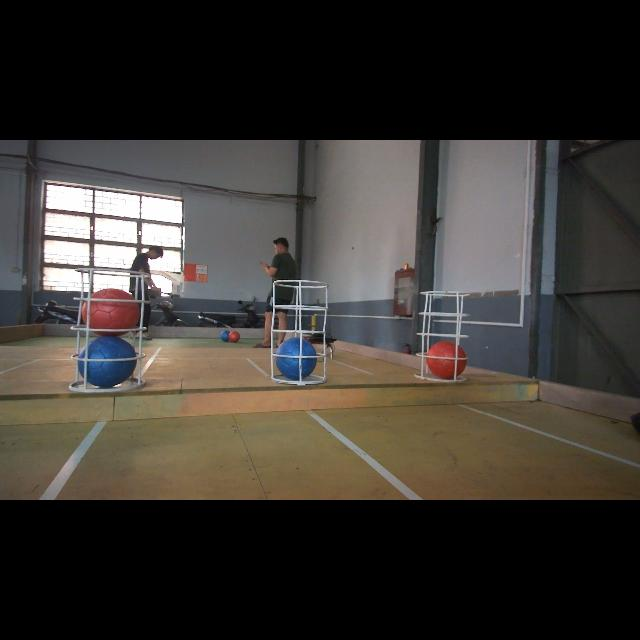B: (78, 336, 138, 388), (276, 336, 318, 379)
R: (82, 288, 140, 336), (426, 340, 466, 380)
